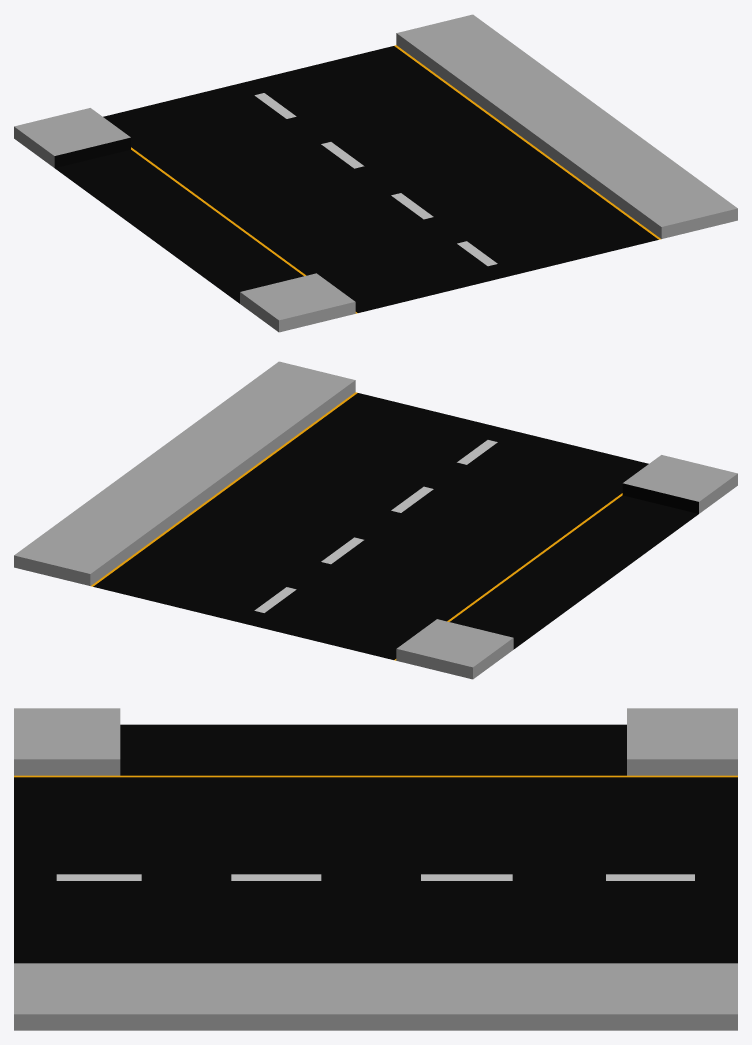
The model's file is OPEN ROAD.001_Material.014.glb.
The picture shows the model from 3 angles, top to bottom: view 1: azimuth 30°, elevation 25°; view 2: azimuth 150°, elevation 25°; view 3: azimuth 270°, elevation 25°; orthographic projection. The views are drawn at different scales.
Visible parts, largest first — view 1: OPEN ROAD.001_Material.014_0; view 2: OPEN ROAD.001_Material.014_0; view 3: OPEN ROAD.001_Material.014_0.
Part boxes in pixels (x1,y1,x2,y2): OPEN ROAD.001_Material.014_0: (14, 14, 737, 332); OPEN ROAD.001_Material.014_0: (14, 361, 737, 679); OPEN ROAD.001_Material.014_0: (14, 708, 737, 1030).
Bounding box in the file's own units: 2 × 0.0504 × 2.
Materials: 1 (1 with a texture image).
